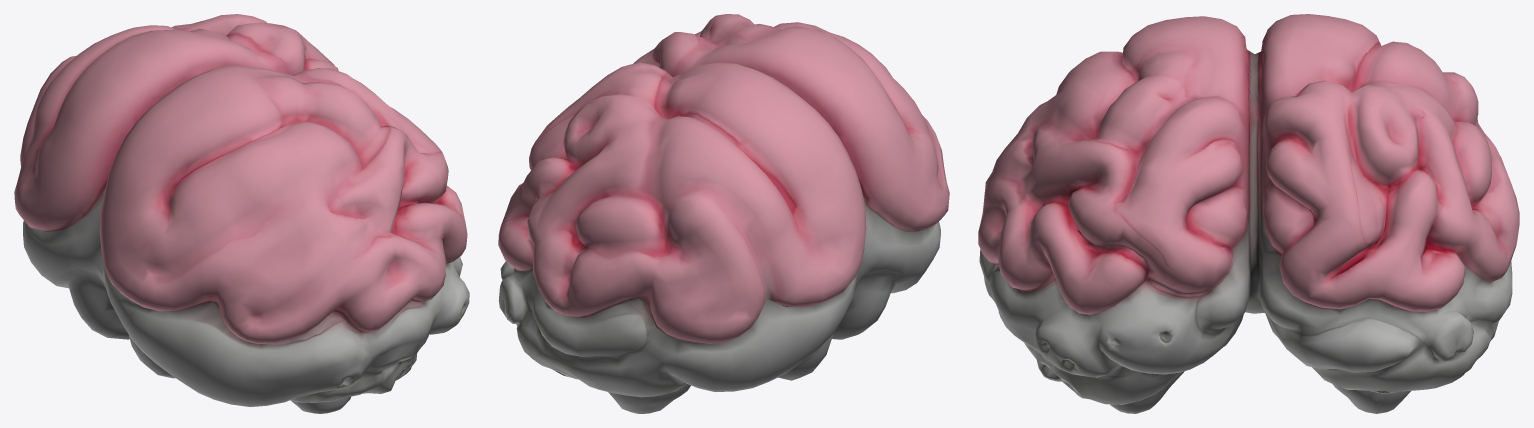
Rendered from brain.glb.
3 renders of one model, left to right at view 1: azimuth 30°, elevation 25°; view 2: azimuth 150°, elevation 25°; view 3: azimuth 270°, elevation 25°, orthographic. The views are drawn at different scales.
Visible parts, largest first — view 1: tripo_node_2ce6f21f-ffba-4a86-b682-6bc246a25830; view 2: tripo_node_2ce6f21f-ffba-4a86-b682-6bc246a25830; view 3: tripo_node_2ce6f21f-ffba-4a86-b682-6bc246a25830.
Boxes of the visible parts, bbox=[...] form: tripo_node_2ce6f21f-ffba-4a86-b682-6bc246a25830: bbox=[14, 14, 469, 413]; tripo_node_2ce6f21f-ffba-4a86-b682-6bc246a25830: bbox=[498, 14, 949, 413]; tripo_node_2ce6f21f-ffba-4a86-b682-6bc246a25830: bbox=[978, 14, 1519, 413].
Size of the model in its own units: 0.748 by 0.7129 by 0.998.
1 material, 1 textured.
